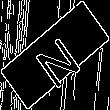N_NW: (27, 23, 83, 87)
